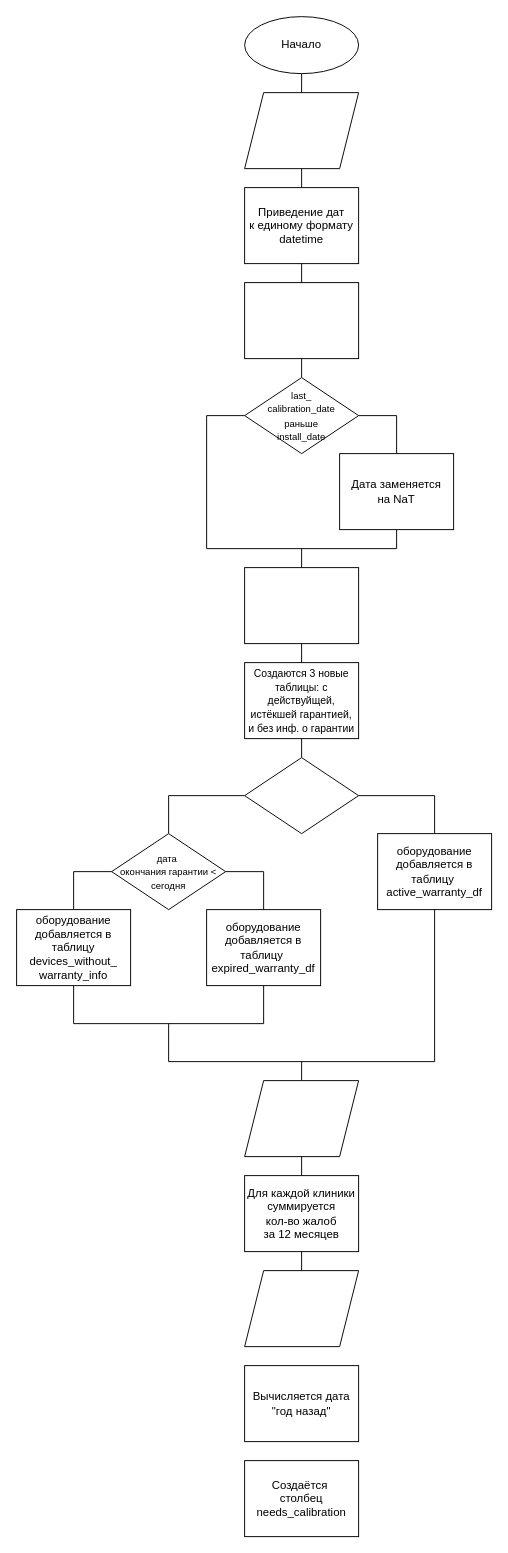
This 508x1553 diagram has some shape labels left out. Each missing label, with the box of its shape:
Вывод топ-3 самых проблемных клиник: (244, 1270, 359, 1347)
Выводится кол-во устройств на гарантии и без: (244, 1080, 359, 1157)
дата окончания гарантии >= сегодня: (244, 757, 359, 834)
Загрузка данных: (244, 92, 359, 169)
Нормализация статусов оборудования: (244, 282, 359, 359)
Определяется сегодняшняя дата: (244, 567, 359, 644)
